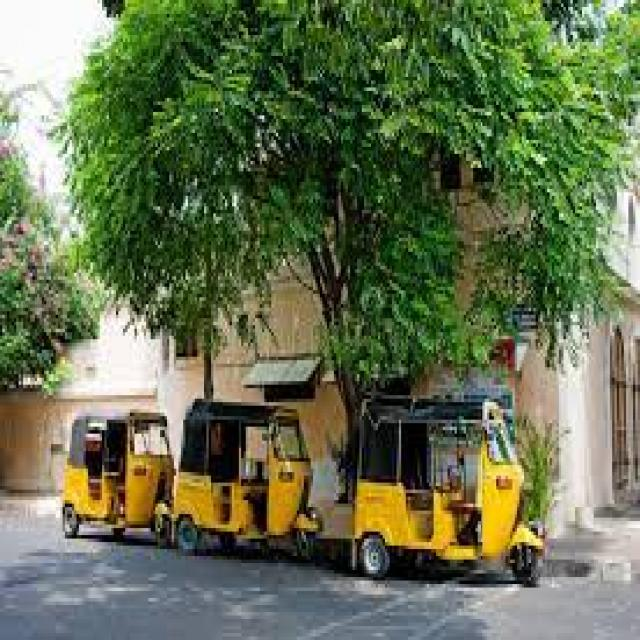Auto: (354, 386, 538, 576), (168, 388, 312, 578), (60, 396, 177, 554)
